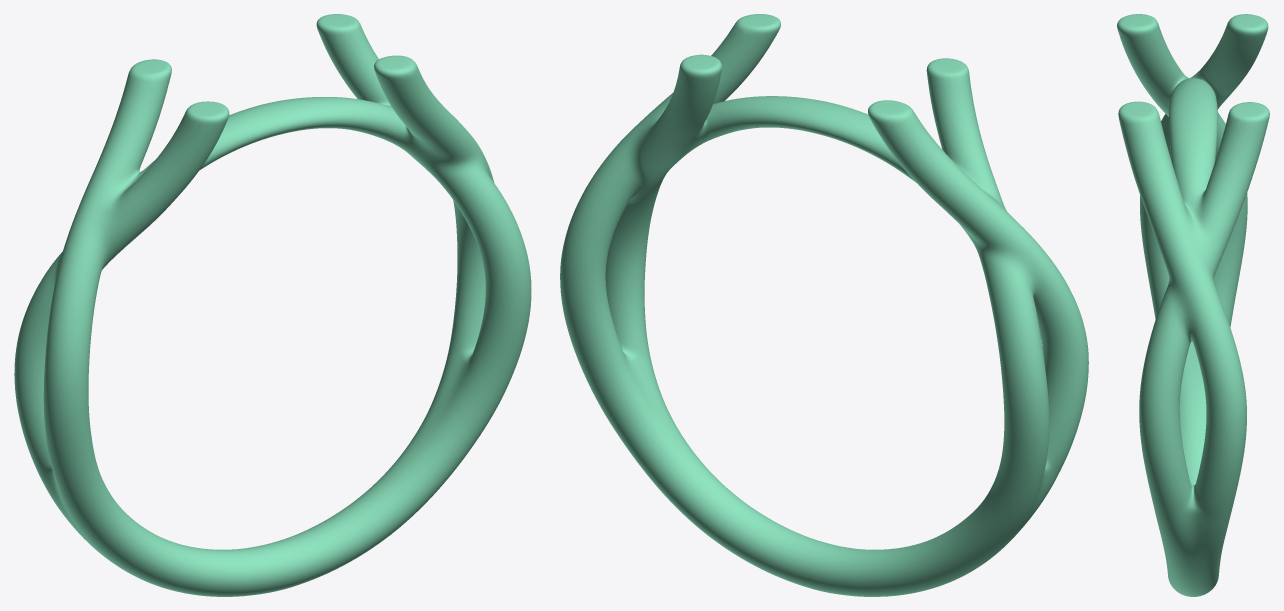
The picture shows the model from 3 angles, left to right: view 1: azimuth 30°, elevation 25°; view 2: azimuth 150°, elevation 25°; view 3: azimuth 270°, elevation 25°; orthographic projection. The views are drawn at different scales.
Parts seen in each view (by area): view 1: Metal02; view 2: Metal02; view 3: Metal02.
Part boxes in pixels (box(x1,y1,x2,y2)): Metal02: box(14, 14, 531, 596); Metal02: box(560, 14, 1088, 596); Metal02: box(1117, 14, 1269, 596).
Bounding box in the file's own units: 21.29 × 21.87 × 5.97.
